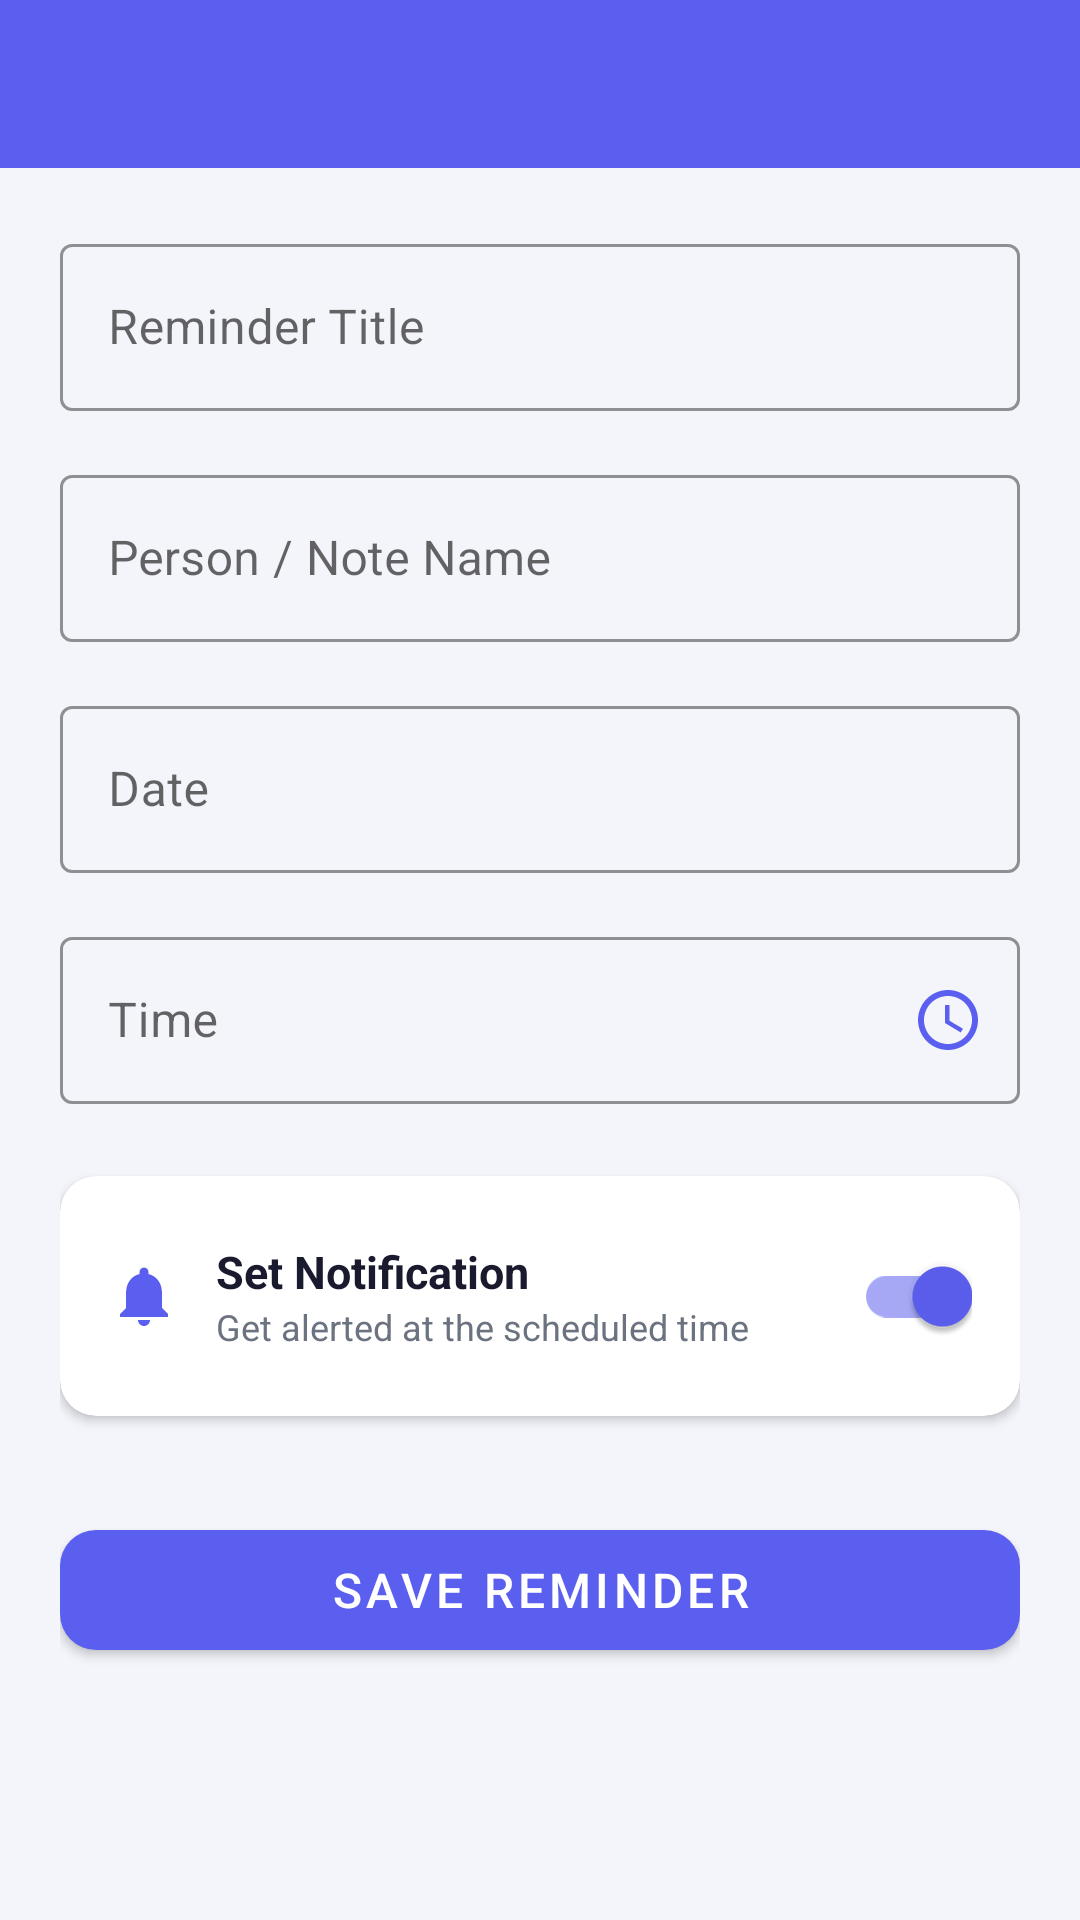

Where to tap for icons on this 1080px x 1920px app screen, as (x,y):
bell on: (144,1296)
